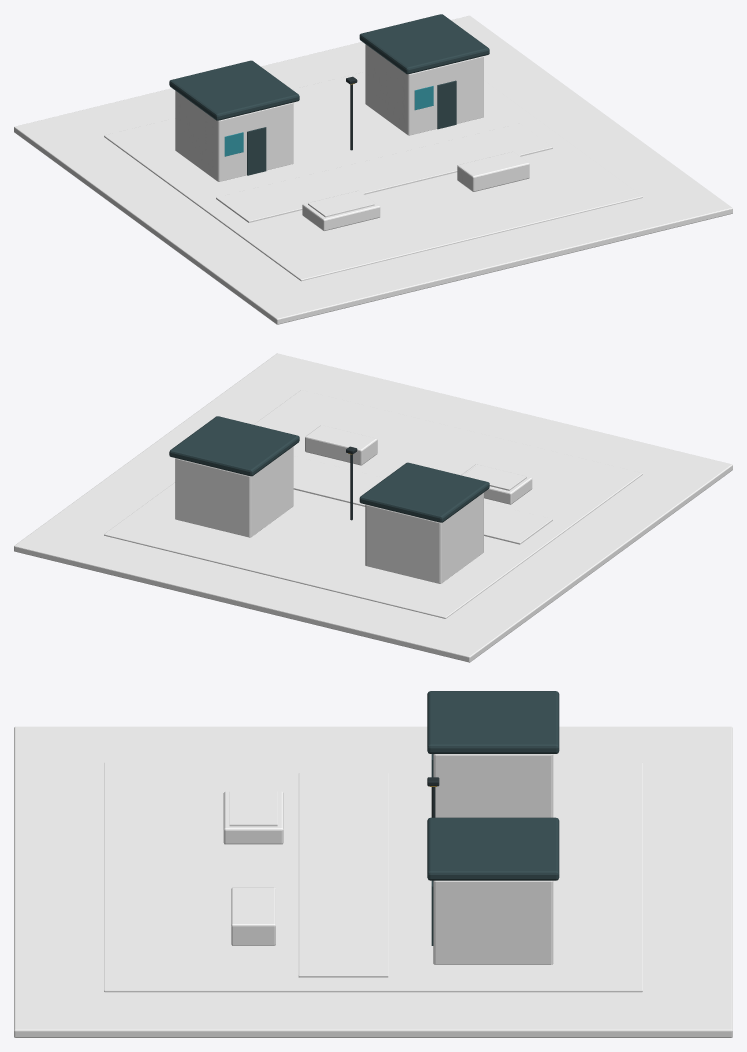
Rendered from 04_Village_Block.gltf.
3 views of the same model, one above another, from view 1: azimuth 30°, elevation 25°; view 2: azimuth 150°, elevation 25°; view 3: azimuth 270°, elevation 25° (orthographic). The views are drawn at different scales.
Visible parts, largest first — view 1: Village Ground, Village Pad, Path, House body.001, House body, House roof, House roof.001, Planter, Garden bed, Garden soil, Door, Door.001; view 2: Village Ground, Village Pad, House body.001, House body, House roof.001, House roof, Path, Planter, Garden soil, Garden bed; view 3: Village Ground, Village Pad, Path, House body.001, House roof.001, House roof, House body, Planter, Garden soil, Garden bed.
Part boxes in pixels (bbox=[...]): Village Ground: bbox=[14, 15, 732, 324]; Village Pad: bbox=[104, 72, 642, 281]; Path: bbox=[216, 123, 552, 222]; House body.001: bbox=[365, 44, 483, 135]; House body: bbox=[175, 91, 293, 181]; House roof: bbox=[169, 60, 299, 120]; House roof.001: bbox=[359, 14, 489, 74]; Planter: bbox=[457, 151, 529, 191]; Garden bed: bbox=[302, 190, 380, 230]; Garden soil: bbox=[308, 191, 374, 217]; Door: bbox=[247, 127, 266, 175]; Door.001: bbox=[437, 80, 456, 129]; Village Ground: bbox=[14, 353, 732, 662]; Village Pad: bbox=[104, 390, 642, 618]; House body.001: bbox=[175, 446, 293, 537]; House body: bbox=[365, 492, 483, 583]; House roof.001: bbox=[169, 416, 299, 476]; House roof: bbox=[359, 462, 489, 522]; Path: bbox=[293, 456, 552, 544]; Planter: bbox=[305, 425, 377, 465]; Garden soil: bbox=[463, 464, 526, 490]; Garden bed: bbox=[461, 464, 532, 504]; Village Ground: bbox=[14, 726, 732, 1037]; Village Pad: bbox=[104, 762, 642, 992]; Path: bbox=[298, 773, 388, 977]; House body.001: bbox=[433, 880, 553, 964]; House roof.001: bbox=[427, 817, 559, 880]; House roof: bbox=[427, 691, 559, 753]; House body: bbox=[433, 754, 553, 817]; Planter: bbox=[231, 887, 275, 945]; Garden soil: bbox=[229, 791, 277, 826]; Garden bed: bbox=[223, 791, 283, 844].
Bounding box in the file's own units: 24 × 3.94 × 24.
